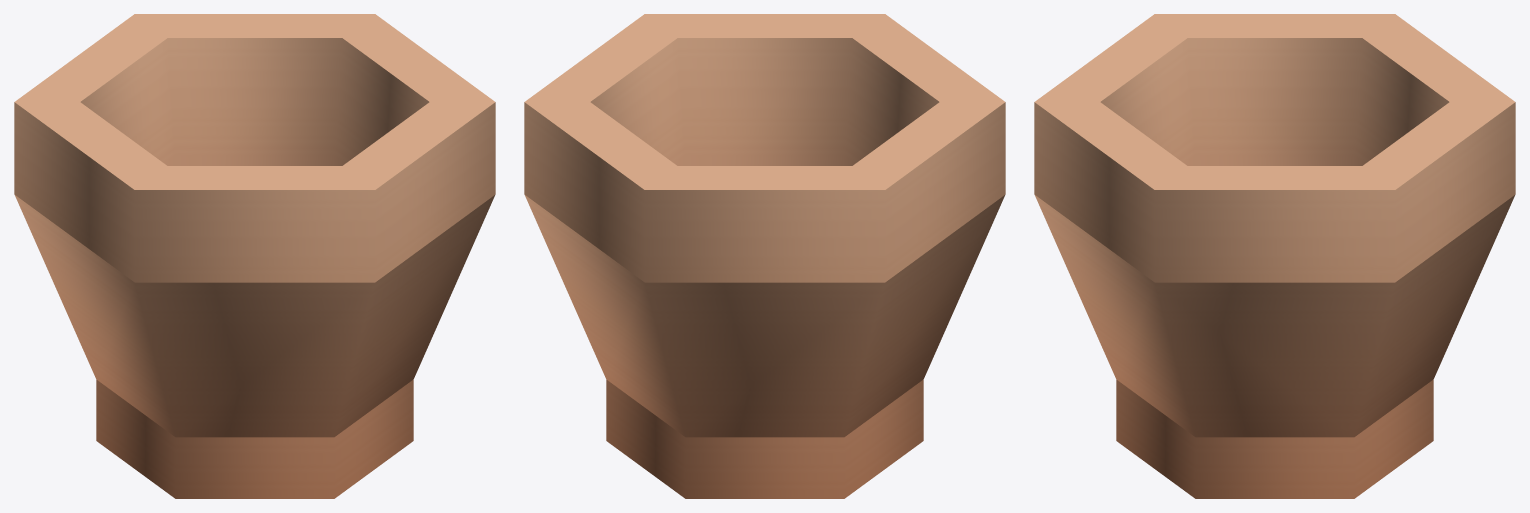
The model's file is ice-cream-cup.obj.
3 views of the same model, side by side, from view 1: azimuth 30°, elevation 25°; view 2: azimuth 150°, elevation 25°; view 3: azimuth 270°, elevation 25° (orthographic).
Parts seen in each view (by area): view 1: ice-cream-cup; view 2: ice-cream-cup; view 3: ice-cream-cup.
Part boxes in pixels (x1,y1,x2,y2): ice-cream-cup: (14,14,495,498); ice-cream-cup: (524,14,1005,498); ice-cream-cup: (1034,14,1515,498).
Size of the model in its own units: 0.2011 by 0.1804 by 0.2322.
1 material, 1 textured.
